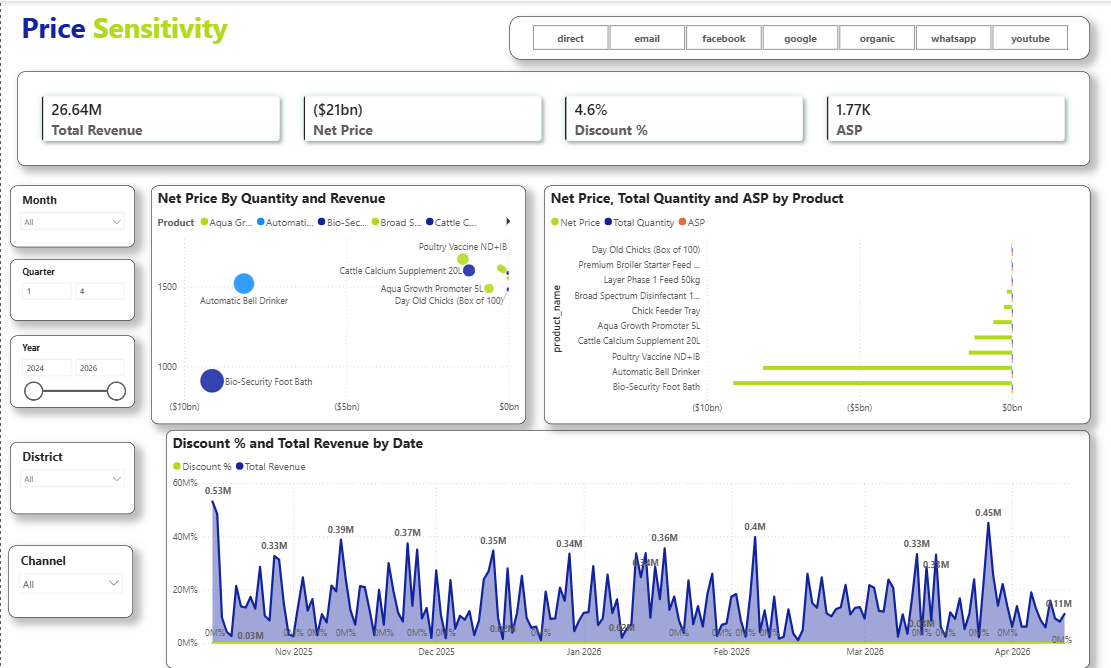

This screenshot's page, from the dashboard's own definition file:
{"tool":"powerbi","page":{"name":"Price Sensitivity","canvas":[1500,900],"ordinal":4},"visuals":[{"type":"slicer","fields":{"Values":["dim_calendar.year"]},"box":[11.9,450.9,168.5,97.3],"z":0},{"type":"slicer","fields":{"Values":["dim_calendar.quarter"]},"box":[11.9,348.9,168.5,83.1],"z":1000},{"type":"slicer","fields":{"Values":["dim_geospatial_market.district"]},"box":[11.9,595.7,168.5,97.3],"z":2000},{"type":"slicer","fields":{"Values":["dim_calendar.month_name"]},"box":[11.9,249.2,168.5,83.1],"z":3000},{"type":"slicer","fields":{"Values":["dim_utm_metadata.channel_grouping"]},"box":[10.1,734.7,168,97.2],"z":4000},{"type":"cardVisual","fields":{"Data":["All Measures.Total Sales","All Measures.Net Price","All Measures.Discount %","All Measures.ASP"]},"box":[22.3,95.1,1447.2,127.5],"z":5000},{"type":"slicer","fields":{"Values":["dim_utm_metadata.Source"]},"box":[686.1,20.2,783.3,58.7],"z":6000},{"type":"textbox","box":[22.3,4,568.8,74.9],"z":7000},{"type":"scatterChart","title":"Net Price By Quantity and Revenue","fields":{"X":["All Measures.Net Price"],"Y":["Sum(fact_order_items.quantity)"],"Size":["All Measures.Total Revenue"],"Series":["dim_products.product_name"]},"box":[202.4,249,506,321.8],"z":8000},{"type":"lineChart","fields":{"Y":["All Measures.Discount %","All Measures.Total Revenue"],"Category":["dim_calendar.Date Hierarchy.Date"]},"box":[222.6,578.9,1246.8,321.8],"z":9000},{"type":"clusteredBarChart","title":"Net Price, Total Quantity and ASP by Product","fields":{"Category":["dim_products.product_name"],"Y":["All Measures.Net Price","All Measures.Total Quantity","All Measures.ASP"]},"box":[732,249,737,322],"z":10000}]}

Visuals, with their boxes in screenshot pixels (x1, y1, x2, y2), scaled from the page's 1500x900 canvas onto the 1111x668 screenshot:
slicer - dim_calendar.year: 9 335 134 407
slicer - dim_calendar.quarter: 9 259 134 321
slicer - dim_geospatial_market.district: 9 442 134 514
slicer - dim_calendar.month_name: 9 185 134 247
slicer - dim_utm_metadata.channel_grouping: 7 545 132 617
cardVisual - All Measures.Total Sales x All Measures.Net Price: 17 71 1088 165
slicer - dim_utm_metadata.Source: 508 15 1088 59
textbox: 17 3 438 59
"Net Price By Quantity and Revenue" scatterChart: 150 185 525 424
lineChart - All Measures.Discount % x All Measures.Total Revenue: 165 430 1088 667
"Net Price, Total Quantity and ASP by Product" clusteredBarChart: 542 185 1088 424
